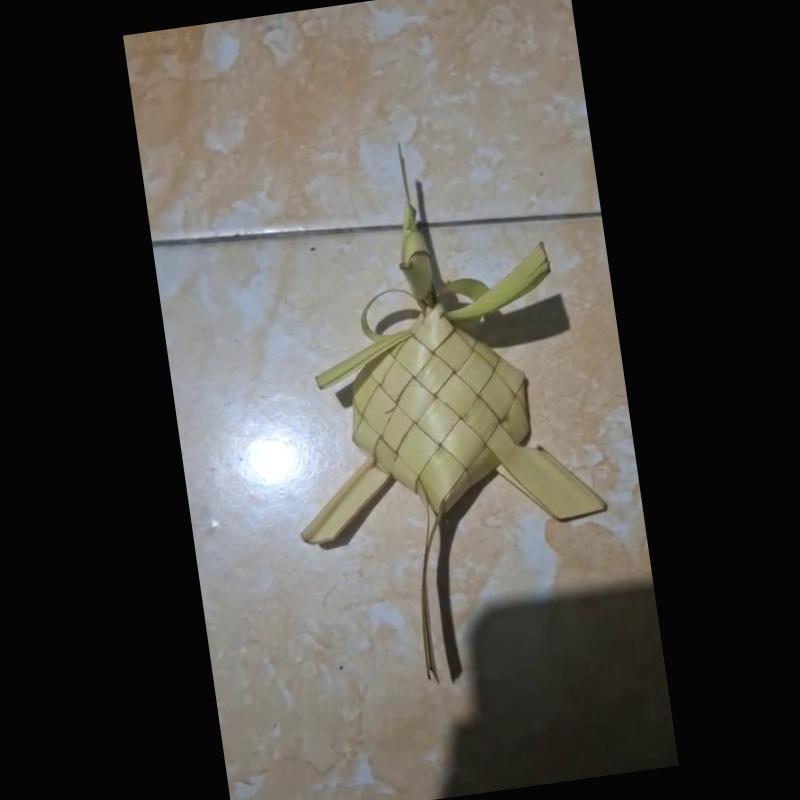Tipat Dampulan: (296, 144, 616, 681)
